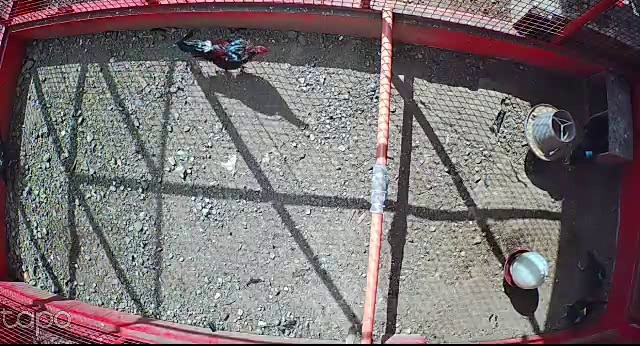Chicken: (553, 292, 609, 327), (576, 248, 611, 300)
Drinker: (504, 249, 551, 289)
Feeder: (525, 101, 578, 163)
Rooster: (178, 33, 271, 76)
Saddle_Color_Blue: (585, 150, 591, 159)
